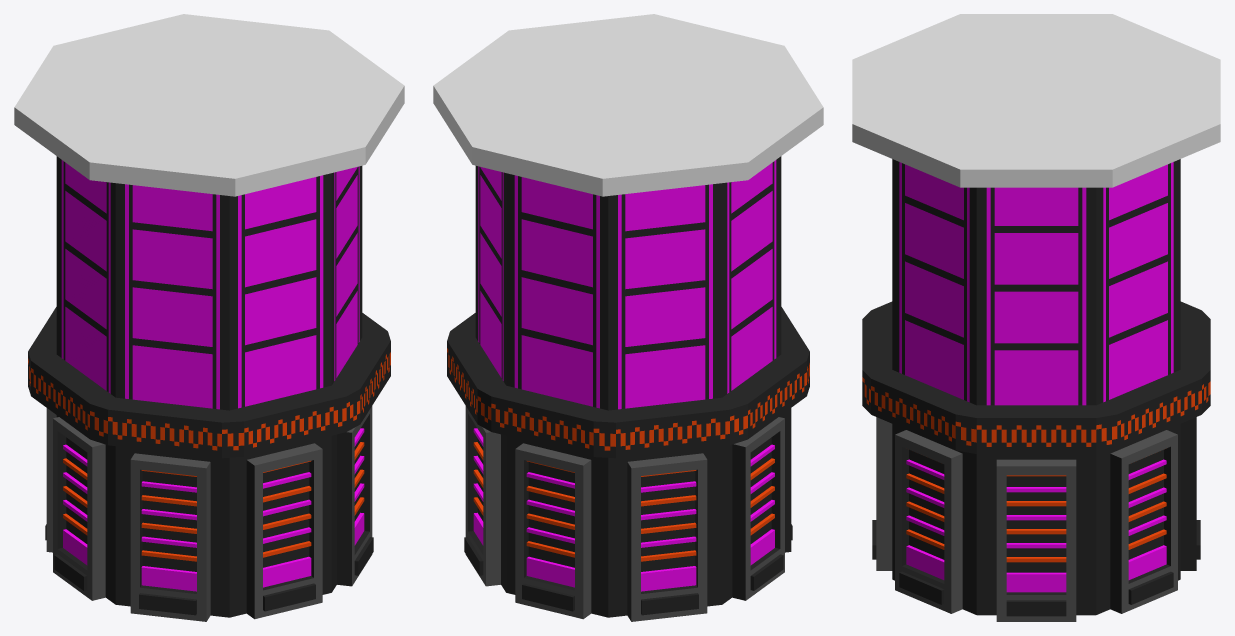
The model's file is Edificio 16.fbx.
3 renders of one model, left to right at view 1: azimuth 30°, elevation 25°; view 2: azimuth 150°, elevation 25°; view 3: azimuth 270°, elevation 25°, orthographic.
Visible parts, largest first — view 1: [4942], Pared 2 [4863], Pared 2 [4866], Pared 2 [4860], Pared 2 [4869], Pared 2 [4881]; view 2: [4942], Pared 2 [4881], Pared 2 [4878], Pared 2 [4860], Pared 2 [4872], Pared 2 [4863]; view 3: [4942], Pared 2 [4875], Pared 2 [4869], Pared 2 [4872], Pared 2 [4866], Pared 2 [4878].
Boxes of the visible parts, bbox=[...] form: [4942]: bbox=[14, 14, 404, 196]; Pared 2 [4863]: bbox=[108, 183, 244, 621]; Pared 2 [4866]: bbox=[229, 173, 360, 619]; Pared 2 [4860]: bbox=[31, 156, 115, 604]; Pared 2 [4869]: bbox=[331, 166, 390, 592]; Pared 2 [4881]: bbox=[28, 307, 56, 552]; [4942]: bbox=[433, 14, 823, 196]; Pared 2 [4881]: bbox=[608, 183, 747, 621]; Pared 2 [4878]: bbox=[491, 173, 615, 619]; Pared 2 [4860]: bbox=[722, 156, 809, 604]; Pared 2 [4872]: bbox=[447, 166, 506, 592]; Pared 2 [4863]: bbox=[781, 307, 809, 552]; [4942]: bbox=[852, 14, 1220, 187]; Pared 2 [4875]: bbox=[976, 187, 1117, 621]; Pared 2 [4869]: bbox=[871, 159, 976, 614]; Pared 2 [4872]: bbox=[1096, 159, 1210, 614]; Pared 2 [4866]: bbox=[862, 319, 892, 570]; Pared 2 [4878]: bbox=[1180, 310, 1210, 570].
Bounding box in the file's own units: 728 × 728 × 1009.
